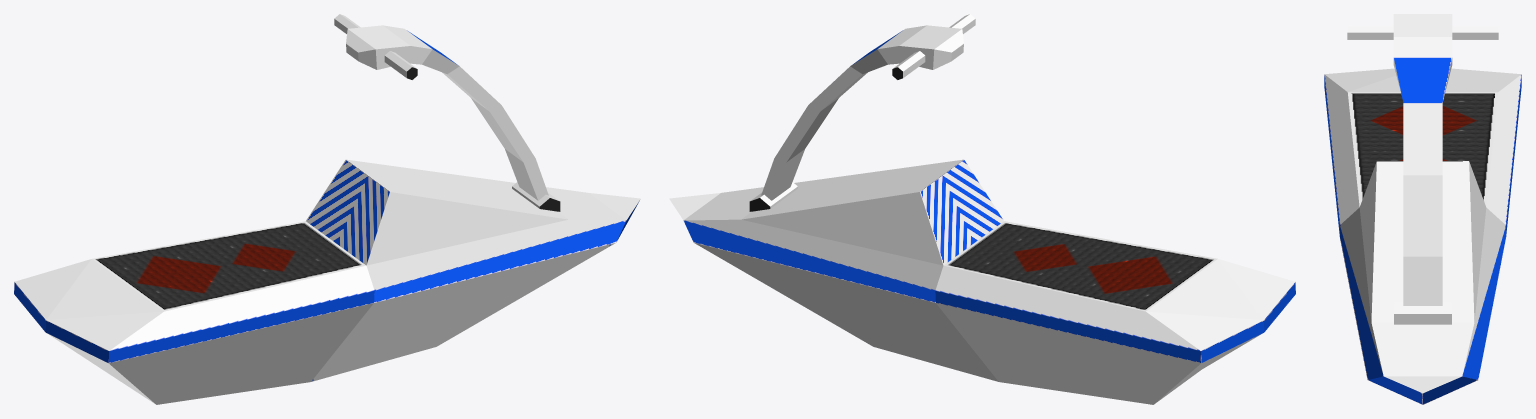
The model's file is waverunner.fbx.
3 renders of one model, left to right at view 1: azimuth 30°, elevation 25°; view 2: azimuth 150°, elevation 25°; view 3: azimuth 270°, elevation 25°, orthographic. The views are drawn at different scales.
Visible parts, largest first — view 1: Boat, Handle; view 2: Boat, Handle; view 3: Boat, Handle.
Part boxes in pixels (x1,y1,x2,y2): Boat: (14,159,640,404); Handle: (334,14,560,211); Boat: (669,159,1295,404); Handle: (749,14,975,211); Boat: (1324,68,1521,404); Handle: (1347,14,1498,324).
Bounding box in the file's own units: 711 × 350 × 196.
1 material, 1 textured.
